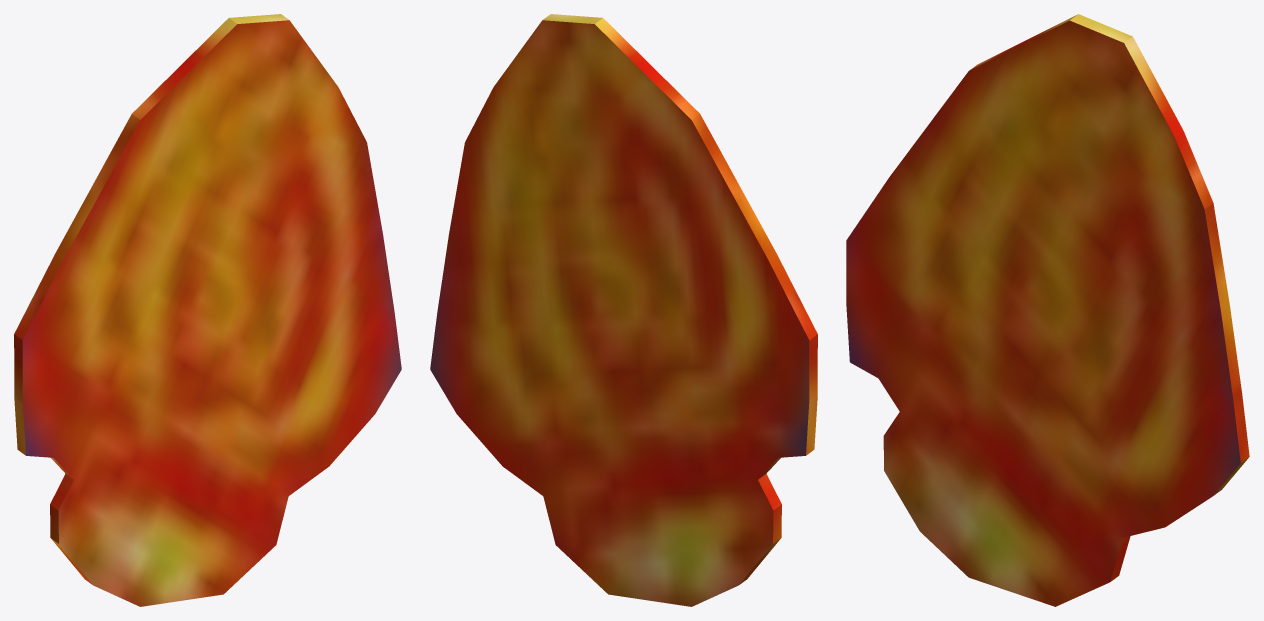
File: Balao10.fbx
3 renders of one model, left to right at view 1: azimuth 30°, elevation 25°; view 2: azimuth 150°, elevation 25°; view 3: azimuth 330°, elevation 25°, orthographic. The views are drawn at different scales.
Visible parts, largest first — view 1: Circle.013; view 2: Circle.013; view 3: Circle.013.
Part boxes in pixels (x1,y1,x2,y2): Circle.013: [14, 14, 401, 606]; Circle.013: [430, 14, 817, 606]; Circle.013: [846, 14, 1249, 606].
Bounding box in the file's own units: 22.52 × 32.18 × 0.8753.
Materials: 1 (1 with a texture image).
